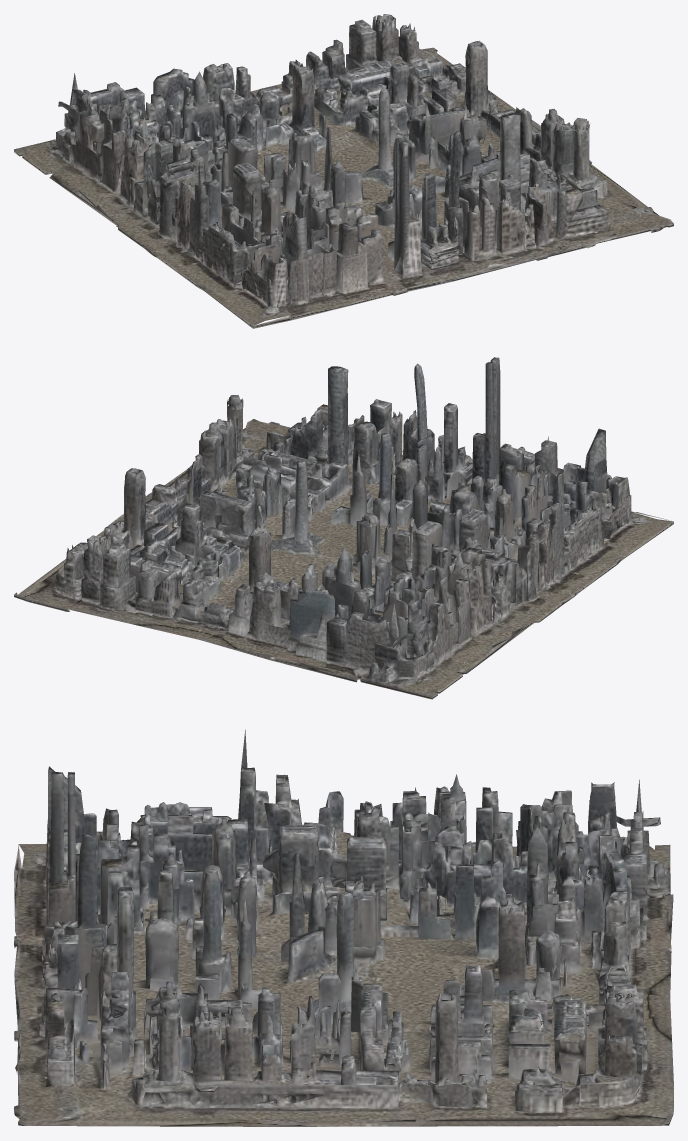
Rendered from ny_hudson_far.glb.
3 views of the same model, one above another, from view 1: azimuth 30°, elevation 25°; view 2: azimuth 150°, elevation 25°; view 3: azimuth 270°, elevation 25° (orthographic). The views are drawn at different scales.
Parts seen in each view (by area): view 1: ny_hudson; view 2: ny_hudson; view 3: ny_hudson.
Boxes of the visible parts, box(x1,y1,x2,y2) form: ny_hudson: box(14, 14, 673, 328); ny_hudson: box(14, 357, 673, 699); ny_hudson: box(14, 729, 673, 1126).
Size of the model in its own units: 1.9 by 0.5844 by 1.9.
Materials: 1 (1 with a texture image).
